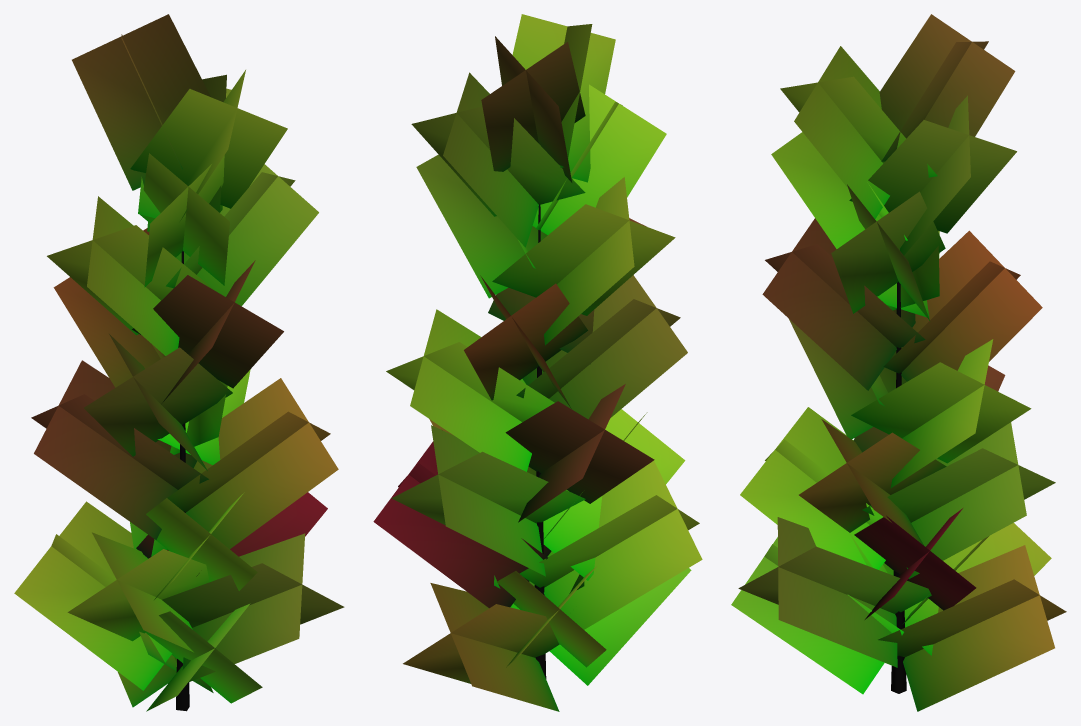
The model's file is SuperTree_16.fbx.
The picture shows the model from 3 angles, left to right: view 1: azimuth 30°, elevation 25°; view 2: azimuth 150°, elevation 25°; view 3: azimuth 270°, elevation 25°; orthographic projection. The views are drawn at different scales.
Parts seen in each view (by area): view 1: SuperTree_16; view 2: SuperTree_16; view 3: SuperTree_16.
Part boxes in pixels (left/top/right/bottom): SuperTree_16: left=14, top=14, right=344, bottom=711; SuperTree_16: left=373, top=14, right=702, bottom=711; SuperTree_16: left=731, top=14, right=1066, bottom=711.
Bounding box in the file's own units: 507 × 1154 × 534.
